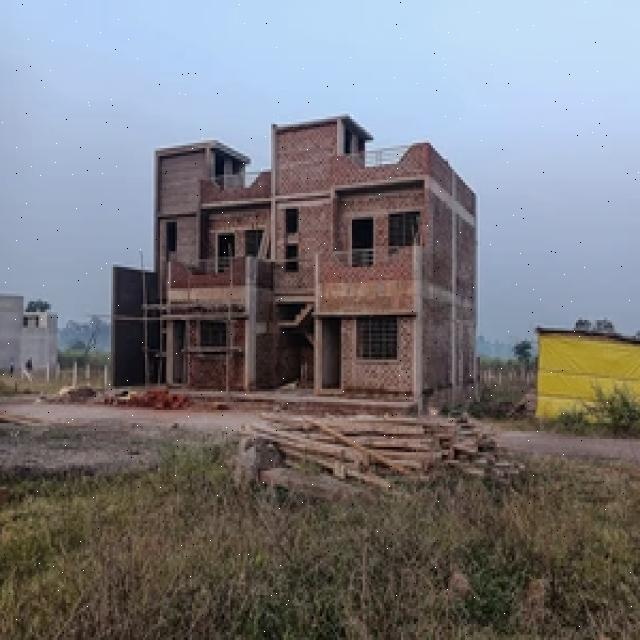Exterior Finishing: (153, 144, 446, 412)
